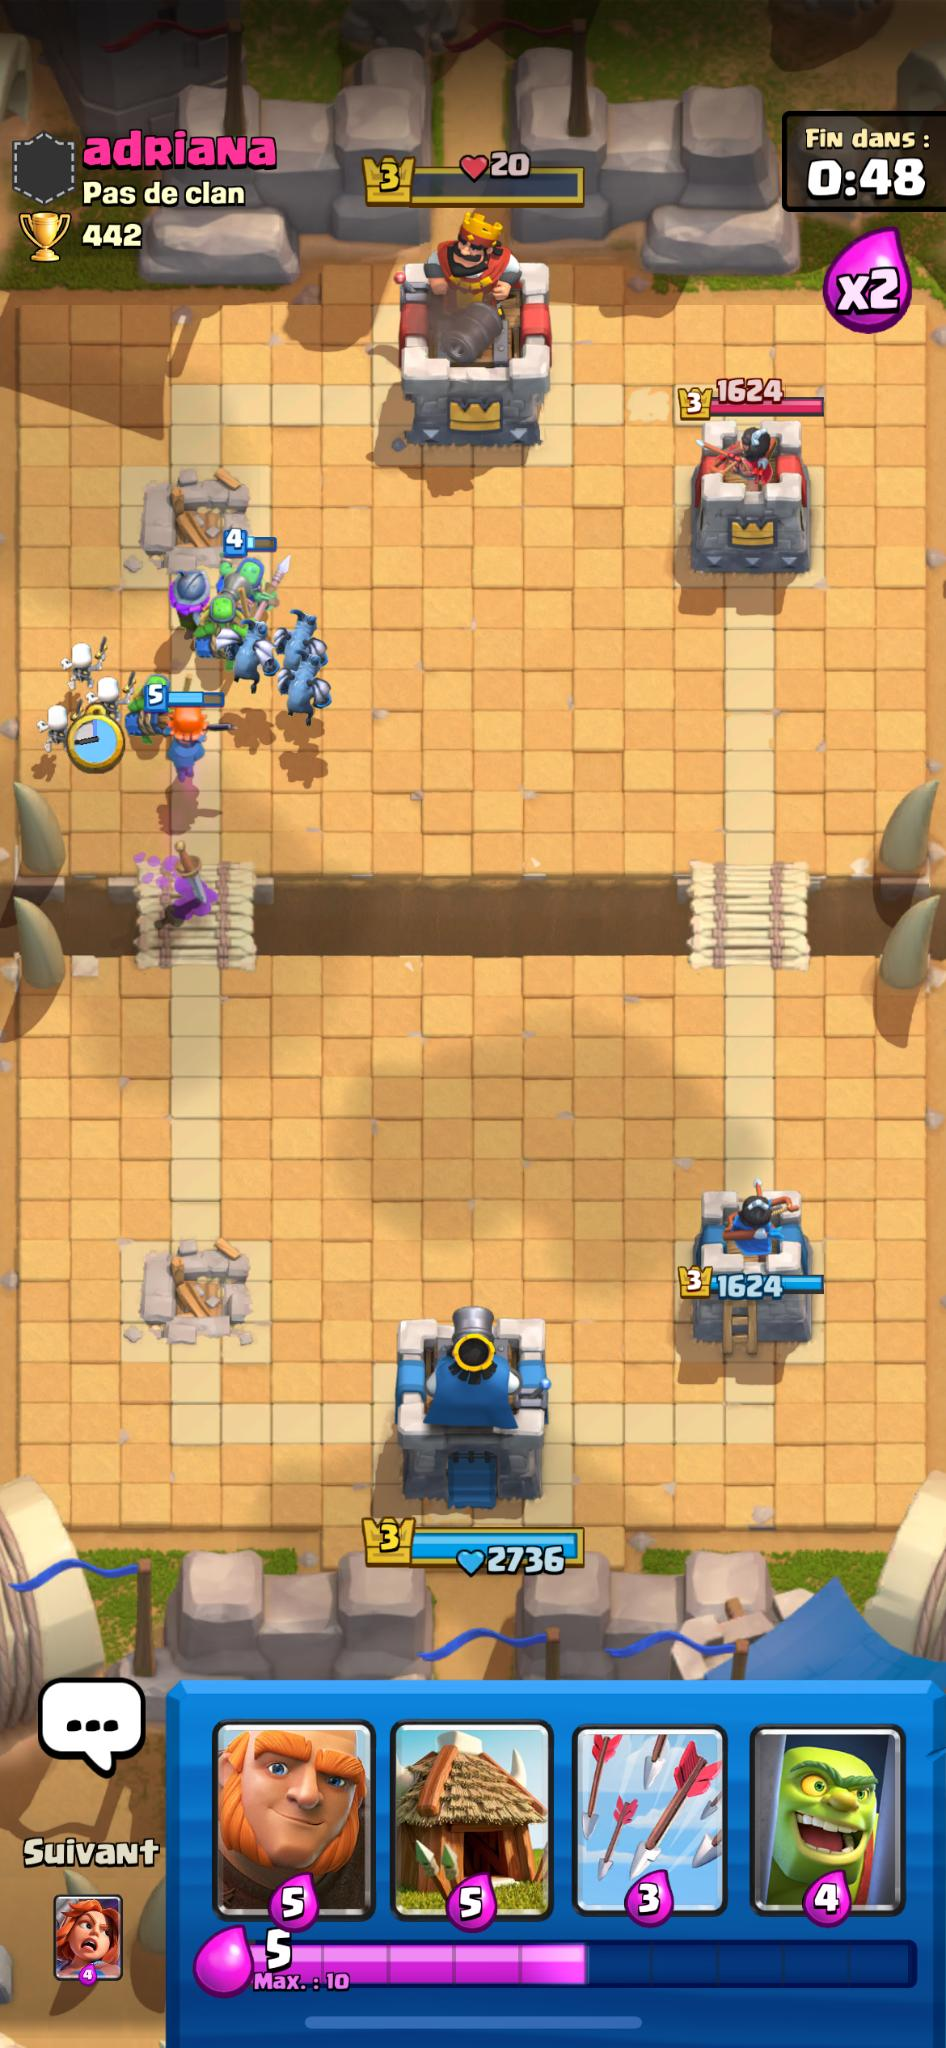gargouille: (276, 603, 321, 687), (231, 618, 270, 695), (281, 649, 323, 721)
gobelin_lances: (124, 670, 182, 739), (220, 549, 276, 609), (196, 602, 253, 649)
mousquetaire: (157, 559, 222, 635)
squelette: (35, 705, 86, 756), (57, 639, 106, 691), (85, 670, 129, 720)
valkyrie: (157, 690, 222, 782)
